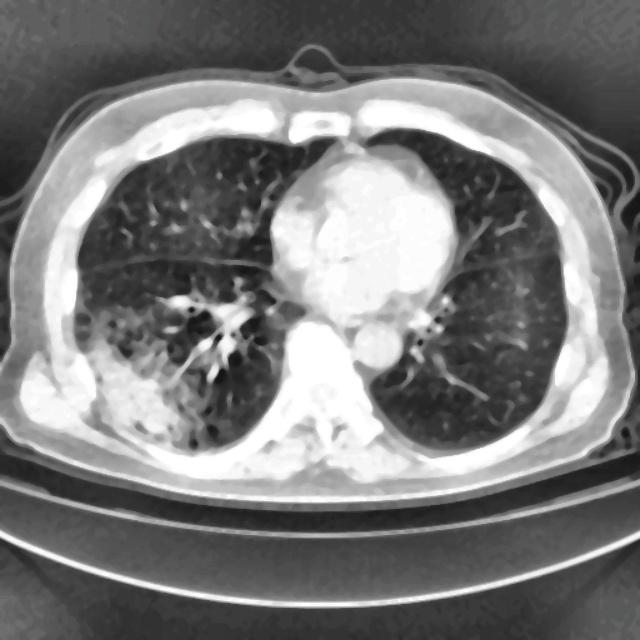covid: (1, 49, 638, 509)
